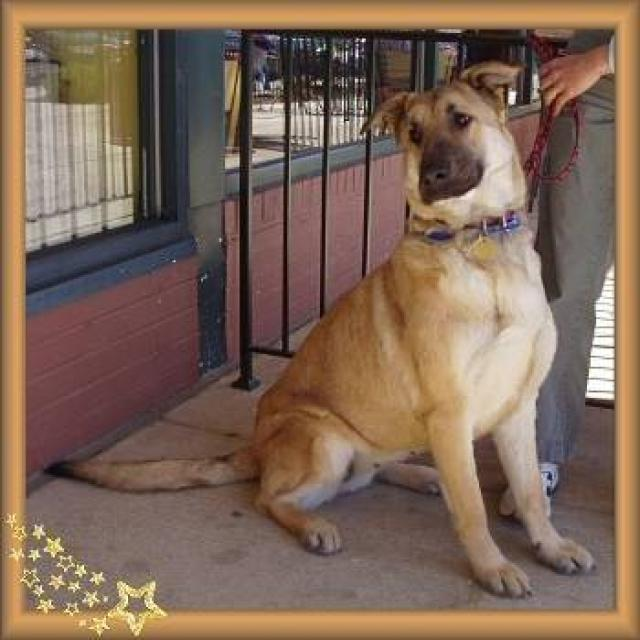dog: (44, 58, 596, 600)
